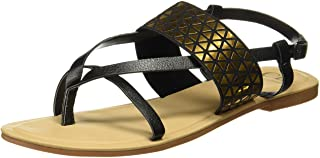shoes: (1, 1, 320, 156)
